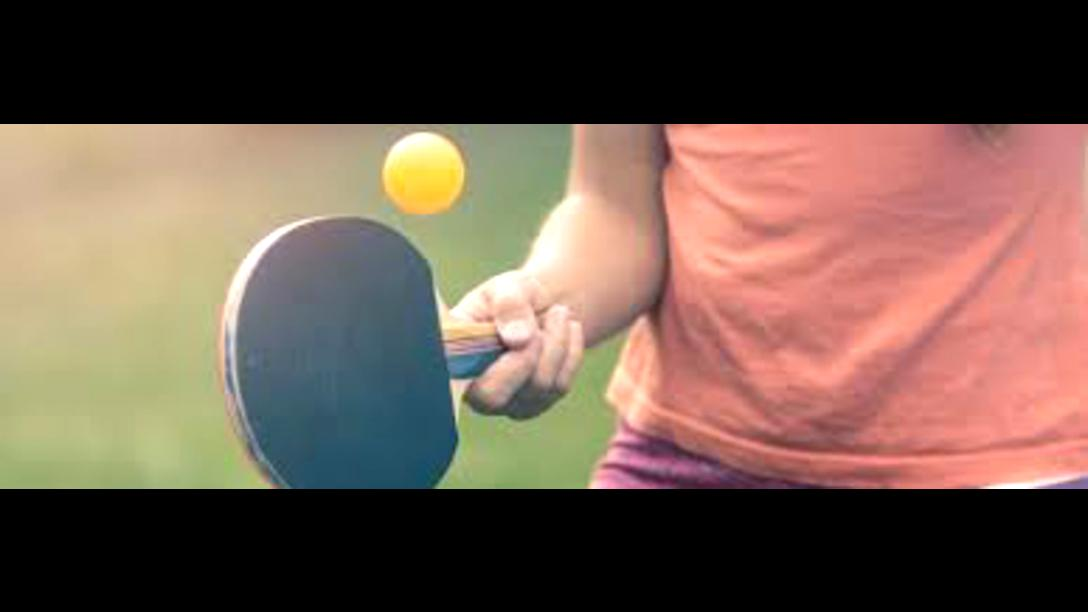Table-Tennis-Ball: (383, 130, 463, 208)
